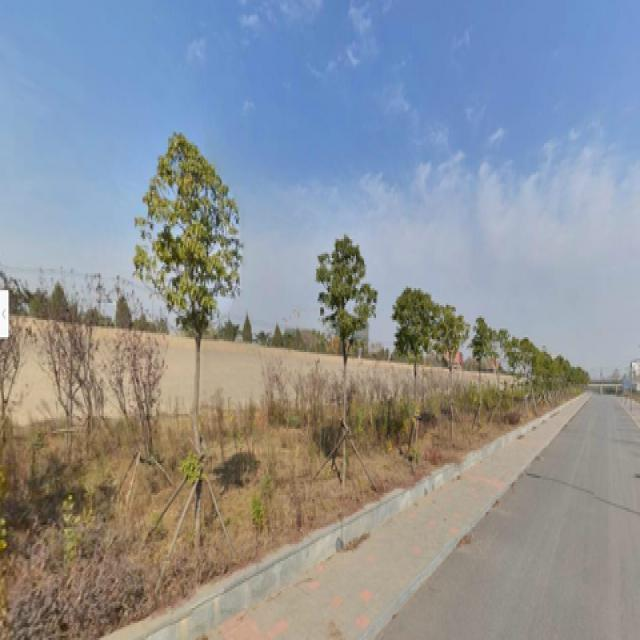cinn: (146, 143, 235, 533), (327, 241, 376, 525), (393, 256, 432, 478)
